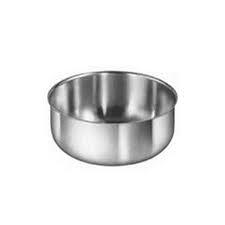Sponge Bowl: (44, 66, 178, 169)
